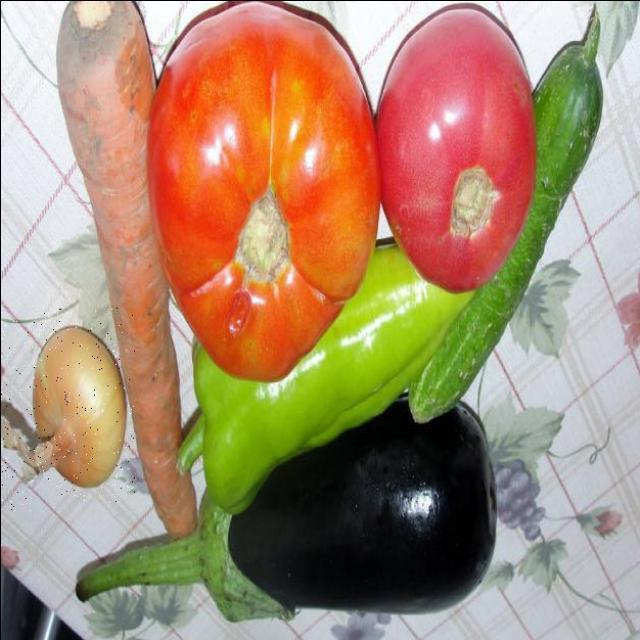Cebolla: (0, 307, 134, 511)
